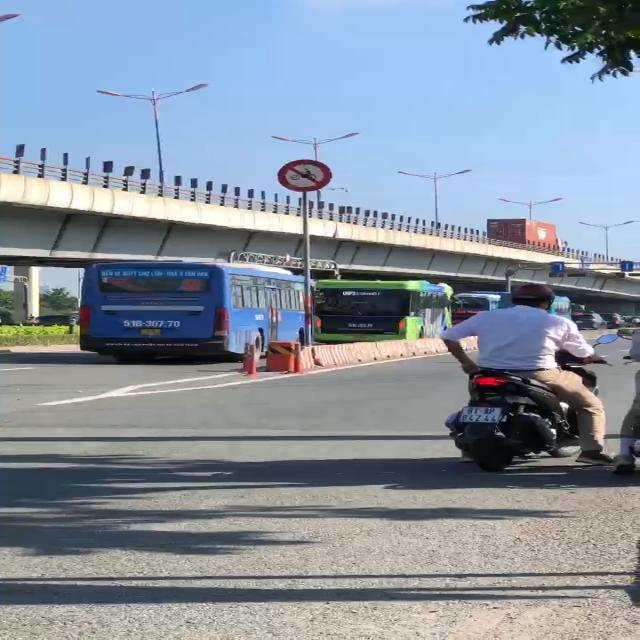Bien bao cam xe may: (273, 156, 337, 196)
